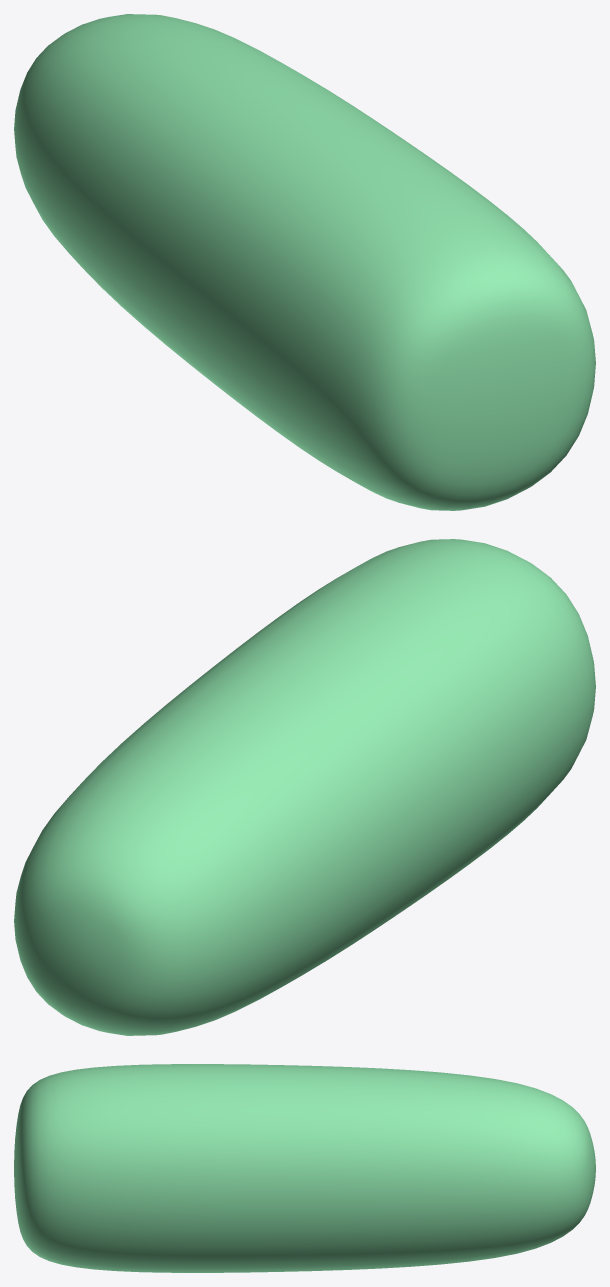
File: snake_body4.fbx
The picture shows the model from 3 angles, top to bottom: view 1: azimuth 30°, elevation 25°; view 2: azimuth 150°, elevation 25°; view 3: azimuth 270°, elevation 25°; orthographic projection. The views are drawn at different scales.
Visible parts, largest first — view 1: 立方体.004; view 2: 立方体.004; view 3: 立方体.004.
Boxes of the visible parts, x1,y1,x2,y2 form: 立方体.004: (14, 14, 595, 510); 立方体.004: (14, 539, 595, 1035); 立方体.004: (14, 1064, 595, 1272).
Size of the model in its own units: 24.88 by 24.88 by 70.16.
